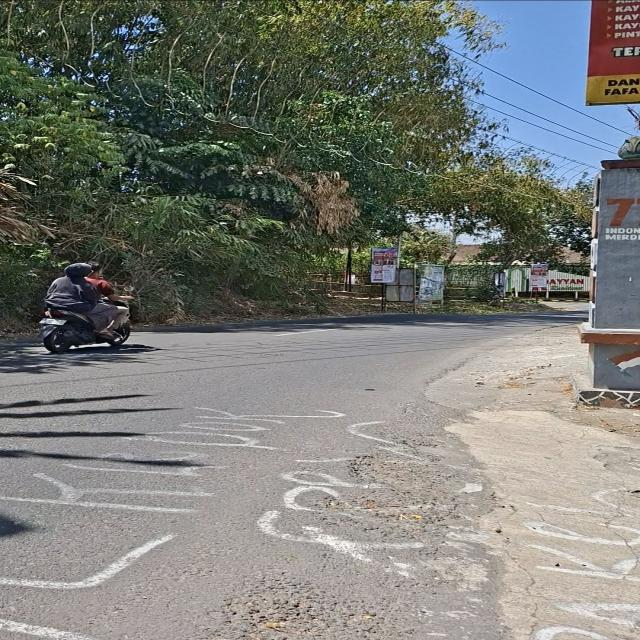WithoutHelmet: (43, 262, 127, 338), (84, 263, 134, 330)
